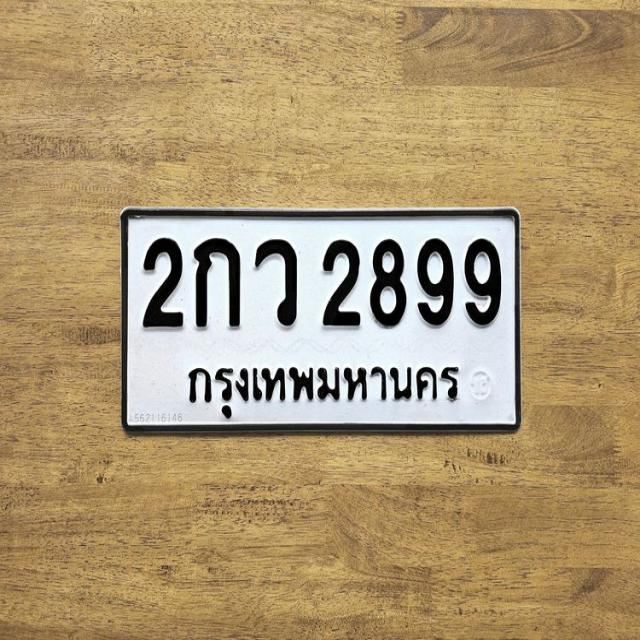plate: (124, 212, 518, 431)
